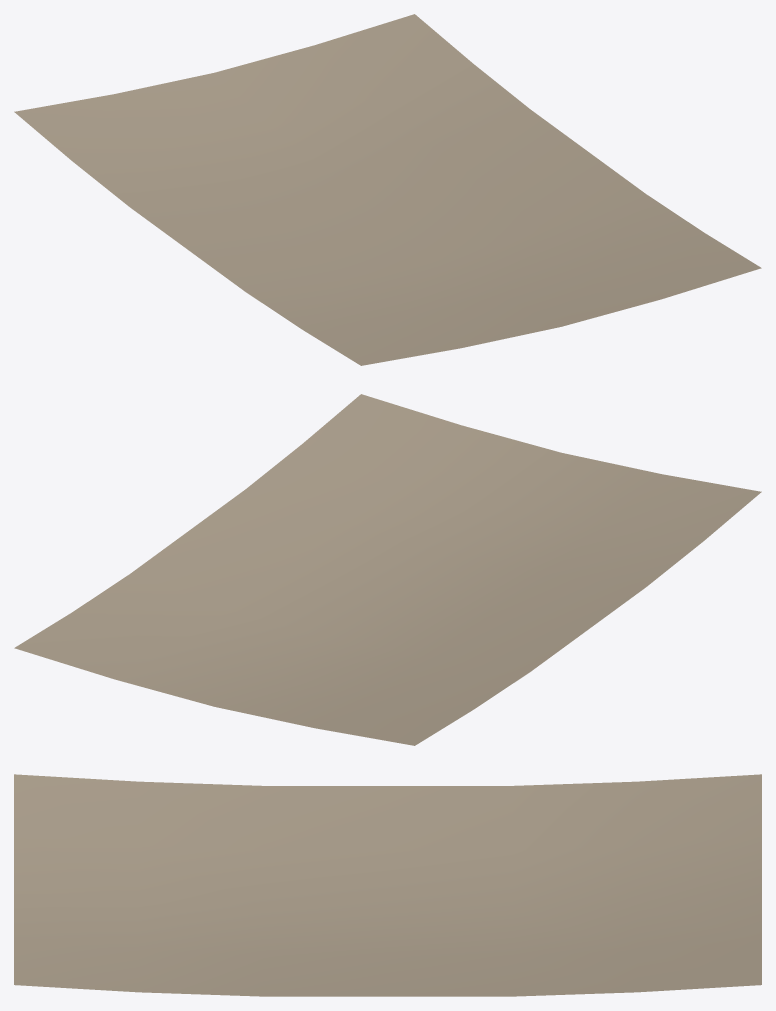
The model's file is SM_Net_Cieling_2x3M.fbx.
3 views of the same model, one above another, from view 1: azimuth 30°, elevation 25°; view 2: azimuth 150°, elevation 25°; view 3: azimuth 270°, elevation 25° (orthographic). The views are drawn at different scales.
Visible parts, largest first — view 1: Net_Cieling_2x3; view 2: Net_Cieling_2x3; view 3: Net_Cieling_2x3.
Part boxes in pixels (x1,y1,x2,y2): Net_Cieling_2x3: (14,14,761,365); Net_Cieling_2x3: (14,394,761,745); Net_Cieling_2x3: (14,774,761,996).
Bounding box in the file's own units: 200 × 12.81 × 300.
